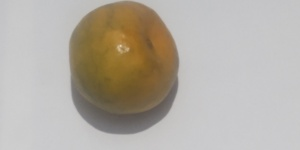BAD: (69, 2, 180, 116)
